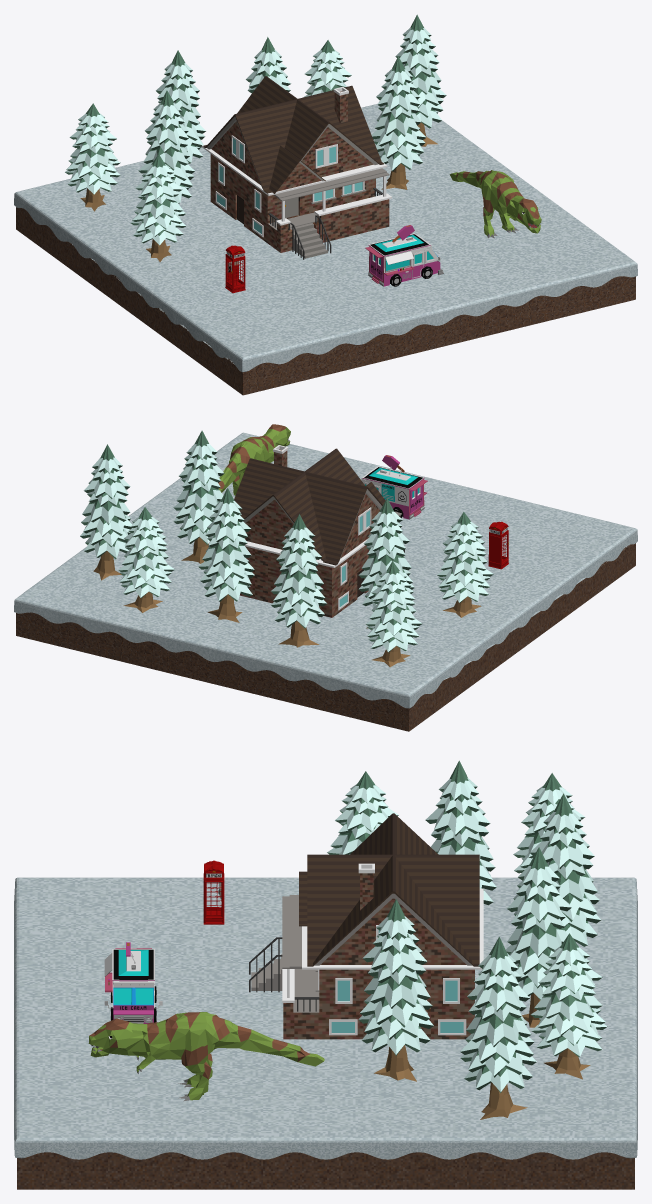
3 views of the same model, one above another, from view 1: azimuth 30°, elevation 25°; view 2: azimuth 150°, elevation 25°; view 3: azimuth 270°, elevation 25° (orthographic). The views are drawn at different scales.
Parts seen in each view (by area): view 1: Cube.003, Cube.117, VEHICLES_ICE_CREAM_TRUCK, ANIMAL_TREX, OBJRANDOM_PHONEBOOTH; view 2: Cube.003, Cube.117, VEHICLES_ICE_CREAM_TRUCK, ANIMAL_TREX, OBJRANDOM_PHONEBOOTH; view 3: Cube.003, Cube.117, ANIMAL_TREX, VEHICLES_ICE_CREAM_TRUCK, OBJRANDOM_PHONEBOOTH.
Boxes of the visible parts, x1=… form: Cube.003: x1=14, y1=14, x2=637, y2=395; Cube.117: x1=201, y1=76, x2=391, y2=259; VEHICLES_ICE_CREAM_TRUCK: x1=365, y1=225, x2=443, y2=286; ANIMAL_TREX: x1=449, y1=170, x2=541, y2=238; OBJRANDOM_PHONEBOOTH: x1=225, y1=245, x2=245, y2=293; Cube.003: x1=14, y1=430, x2=637, y2=731; Cube.117: x1=234, y1=445, x2=404, y2=617; VEHICLES_ICE_CREAM_TRUCK: x1=361, y1=455, x2=427, y2=519; ANIMAL_TREX: x1=218, y1=424, x2=290, y2=495; OBJRANDOM_PHONEBOOTH: x1=488, y1=521, x2=508, y2=569; Cube.003: x1=14, y1=760, x2=637, y2=1189; Cube.117: x1=249, y1=813, x2=483, y2=1039; ANIMAL_TREX: x1=88, y1=1012, x2=324, y2=1101; VEHICLES_ICE_CREAM_TRUCK: x1=104, y1=942, x2=162, y2=1023; OBJRANDOM_PHONEBOOTH: x1=203, y1=860, x2=224, y2=924.
Bounding box in the file's own units: 4040 × 1692 × 4040.
Materials: 48 (4 with a texture image).
